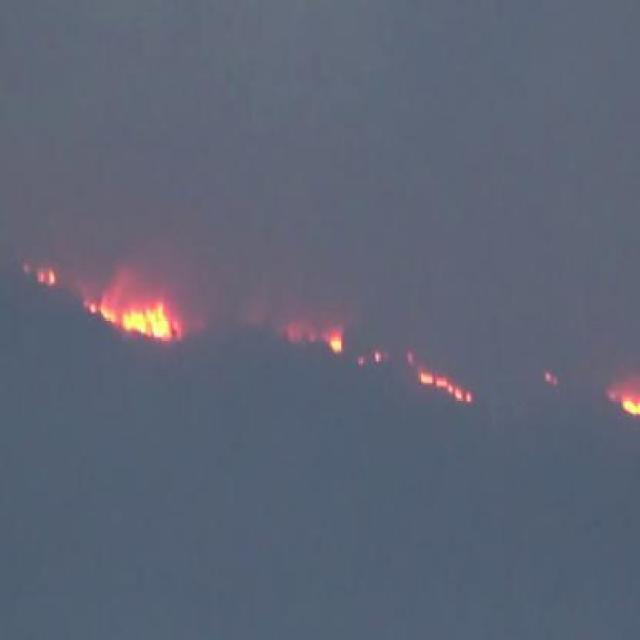Fire: (84, 298, 172, 340), (418, 368, 472, 408), (35, 266, 57, 283), (622, 396, 638, 414), (328, 333, 342, 352)
